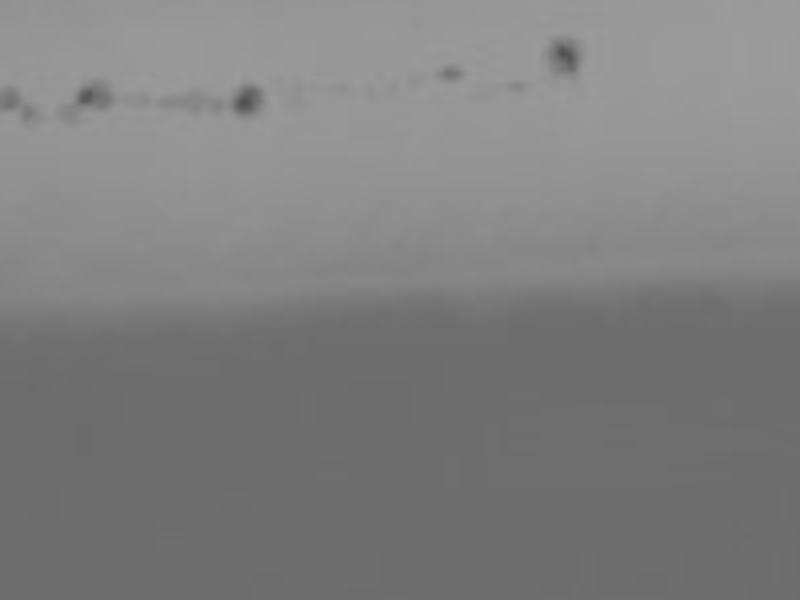defect: (544, 38, 586, 78), (80, 78, 114, 112), (233, 85, 265, 116), (160, 92, 205, 114), (56, 103, 81, 127), (358, 79, 380, 106), (434, 66, 463, 84), (1, 86, 21, 109), (122, 92, 150, 108), (505, 77, 526, 93), (20, 108, 37, 125)
